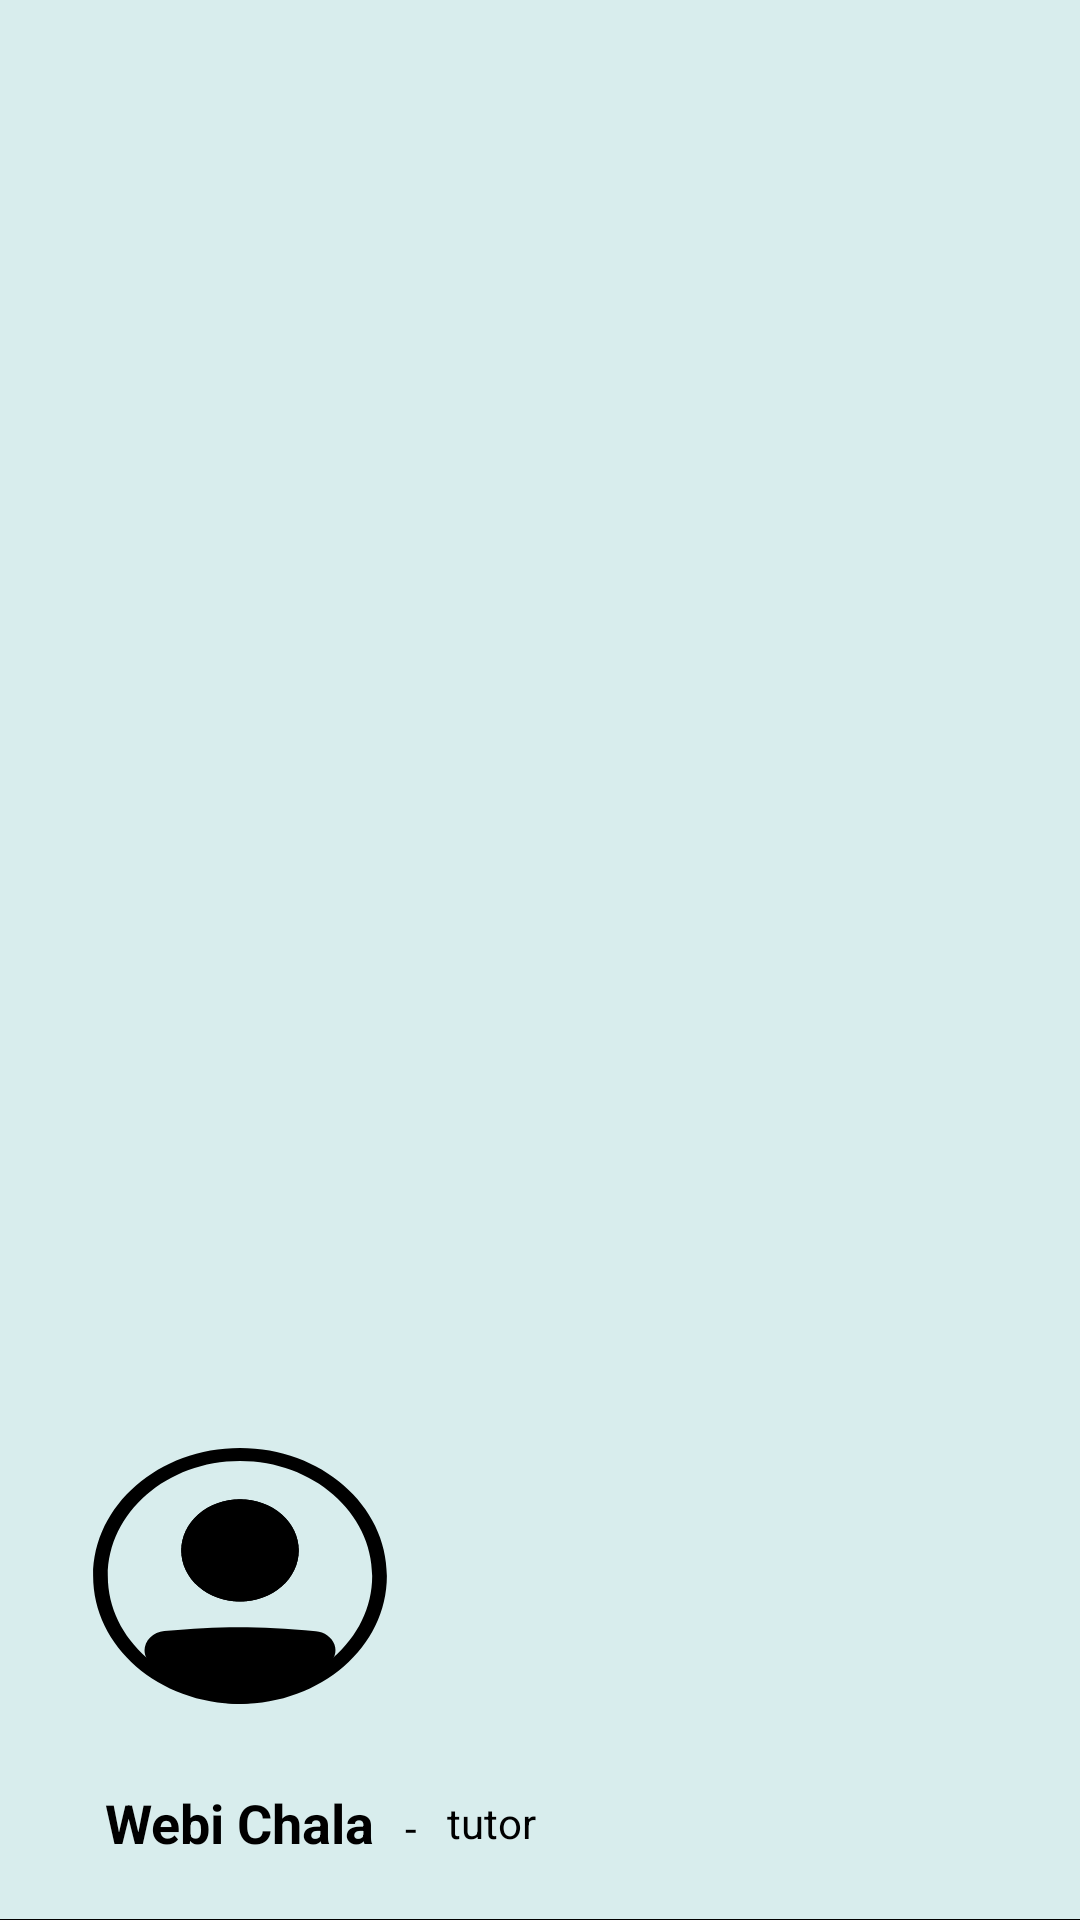

Icon click points for this 1080x1920 phone screenshot, format [x,y]:
registration user: [240,1576]
